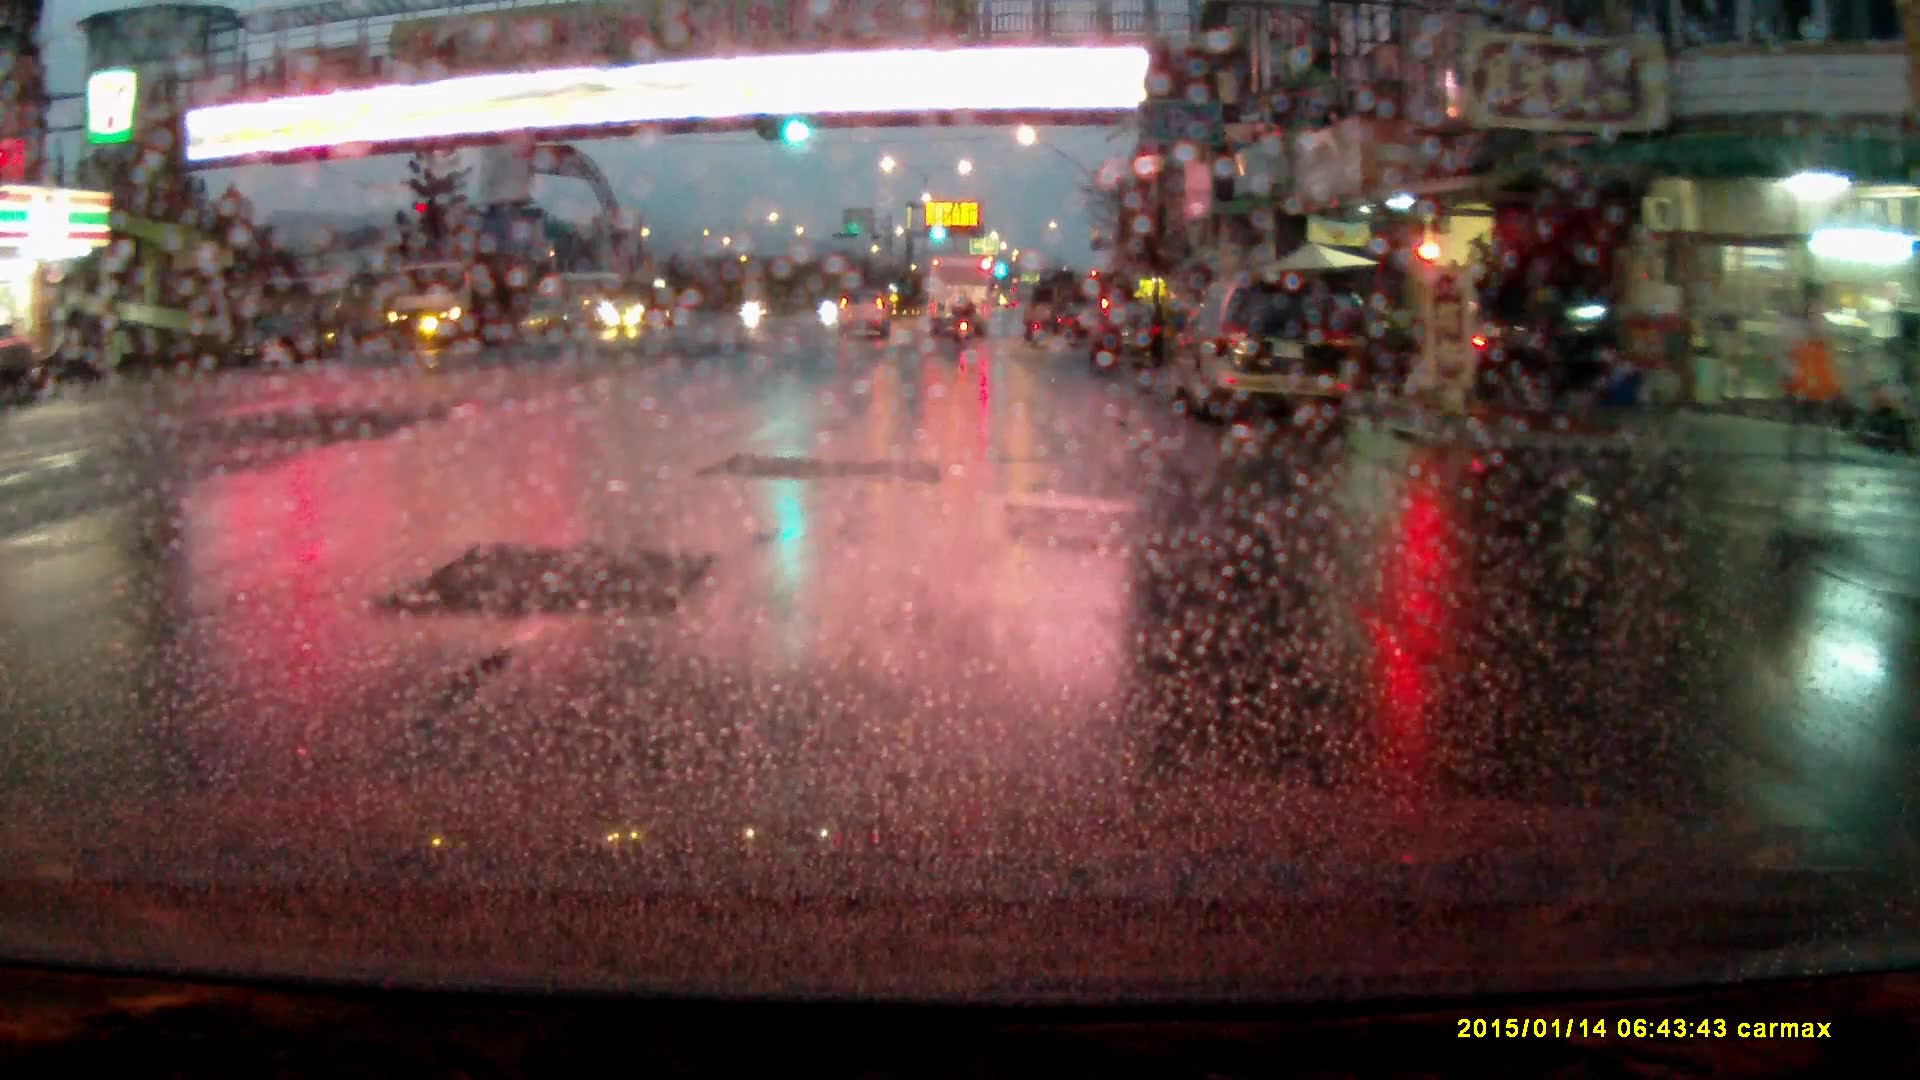pedestrian: (1765, 276, 1856, 517)
rider: (951, 292, 976, 352)
vehicle: (1170, 279, 1361, 425), (1483, 288, 1616, 400), (381, 257, 520, 349), (927, 256, 993, 335), (1090, 308, 1167, 369), (606, 281, 679, 338), (839, 294, 895, 343), (1058, 302, 1102, 345)
